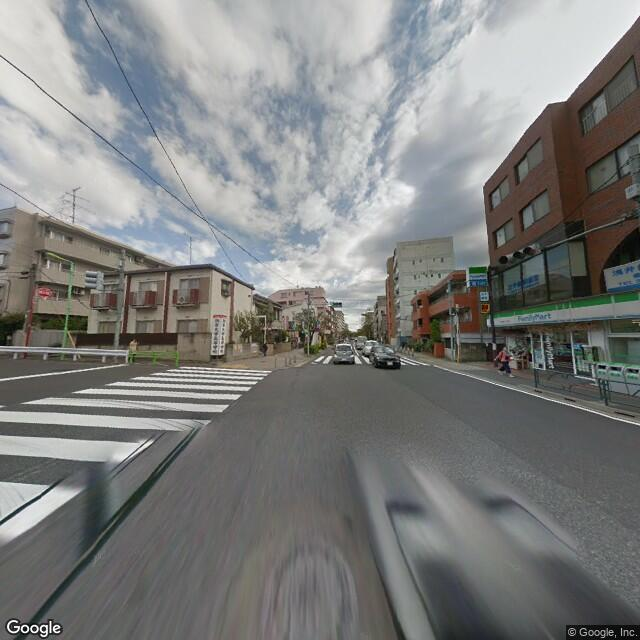family_mart: (486, 284, 638, 333), (467, 262, 487, 290)
